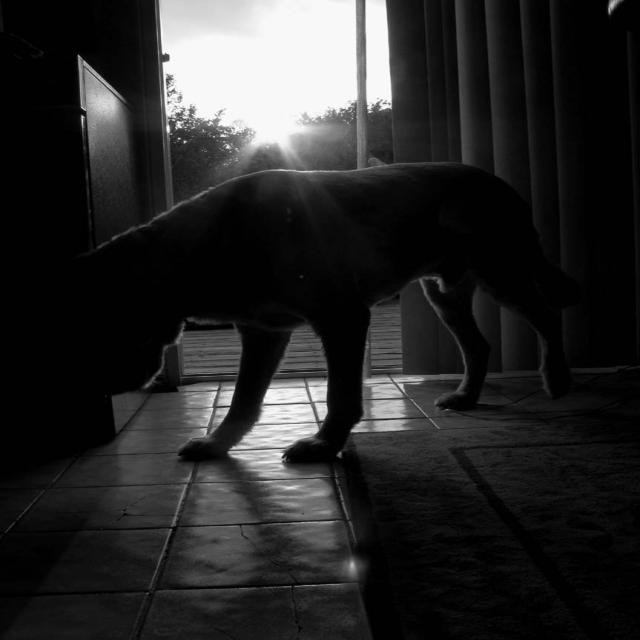Dog: (53, 159, 618, 476)
